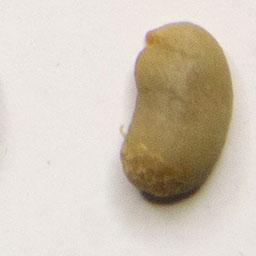longberry: (116, 17, 238, 210)
